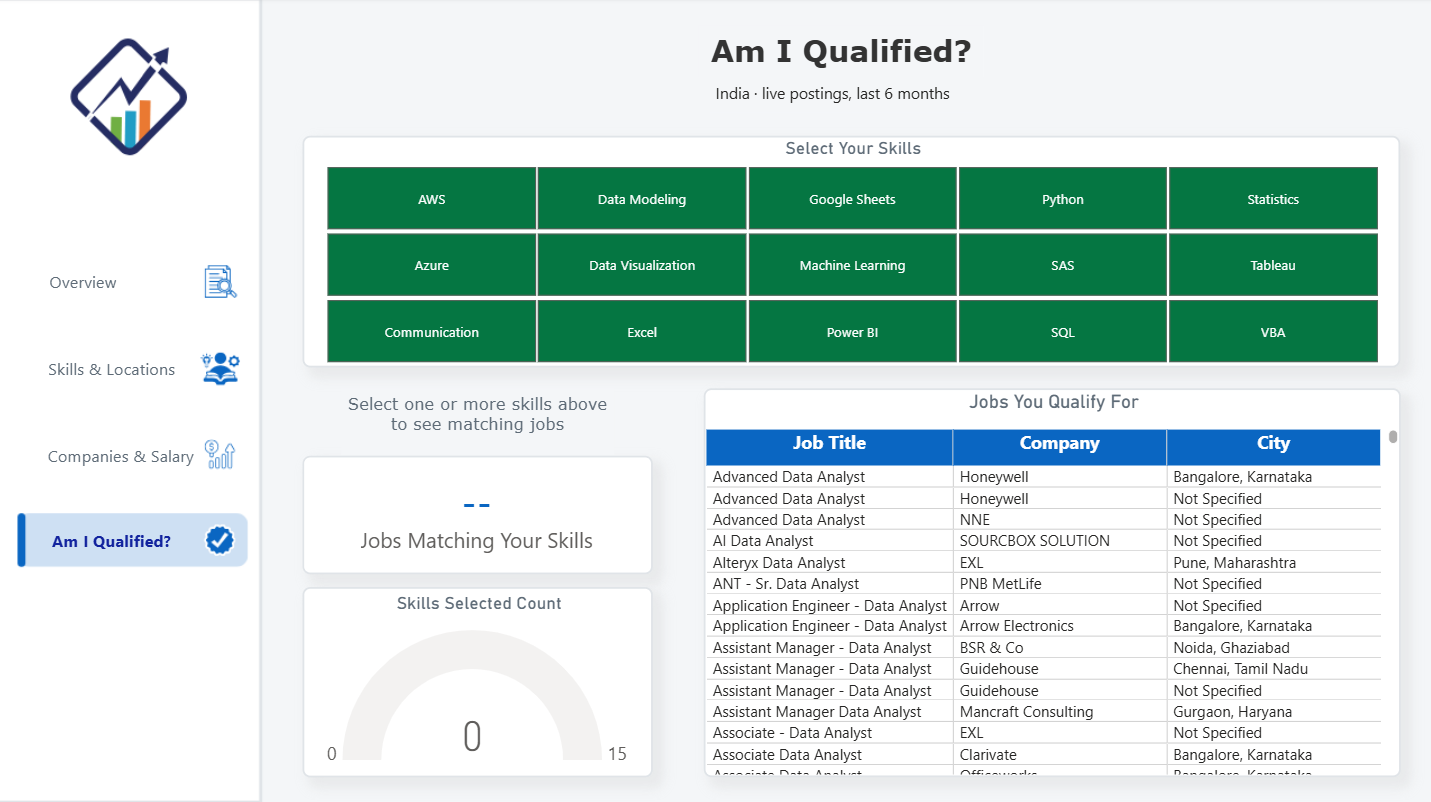

This screenshot's page, from the dashboard's own definition file:
{"tool":"powerbi","page":{"name":"Am I Qualified?","canvas":[1280,720],"ordinal":3},"visuals":[{"type":"slicer","title":"Select Your Skills","fields":{"Values":["skills_unpivoted.Skill"]},"box":[273.6,123.9,977.9,206.1],"z":0},{"type":"cardVisual","fields":{"Data":["_Measures.Matching Jobs"]},"box":[273.6,408.6,311.7,105.5],"z":1000},{"type":"gauge","fields":{"Y":["_Measures.Skills Selected Count"]},"box":[273.6,525.2,311.7,169.2],"z":2000},{"type":"tableEx","title":"Jobs You Qualify For","fields":{"Values":["job_data.title","job_data.company","job_data.location"]},"box":[630.7,348.5,620.9,346],"z":3000},{"type":"textbox","box":[627,25.8,254,45.4],"z":4000},{"type":"textbox","box":[636.8,71.2,235.6,31.9],"z":5000},{"type":"actionButton","box":[41.2,231.5,74.4,44.2],"z":6000},{"type":"actionButton","box":[40.7,311.6,125.6,37.2],"z":7000},{"type":"actionButton","box":[46.5,460.5,114,45.3],"z":8000},{"type":"actionButton","box":[40.7,389.5,141.9,37.2],"z":9000},{"type":"textbox","box":[308,348.5,242.9,58.9],"z":10000}]}

Visuals, with their boxes on the page's 1280x720 design canvas (x1, y1, x2, y2). These are canvas units, not pixel positions in the 1431x802 screenshot, which may show the page scaled, cropped or inside an application window:
"Select Your Skills" slicer: Rect(274, 124, 1252, 330)
cardVisual - _Measures.Matching Jobs: Rect(274, 409, 585, 514)
gauge - _Measures.Skills Selected Count: Rect(274, 525, 585, 694)
"Jobs You Qualify For" tableEx: Rect(631, 348, 1252, 694)
textbox: Rect(627, 26, 881, 71)
textbox: Rect(637, 71, 872, 103)
actionButton: Rect(41, 232, 116, 276)
actionButton: Rect(41, 312, 166, 349)
actionButton: Rect(46, 460, 160, 506)
actionButton: Rect(41, 390, 183, 427)
textbox: Rect(308, 348, 551, 407)
